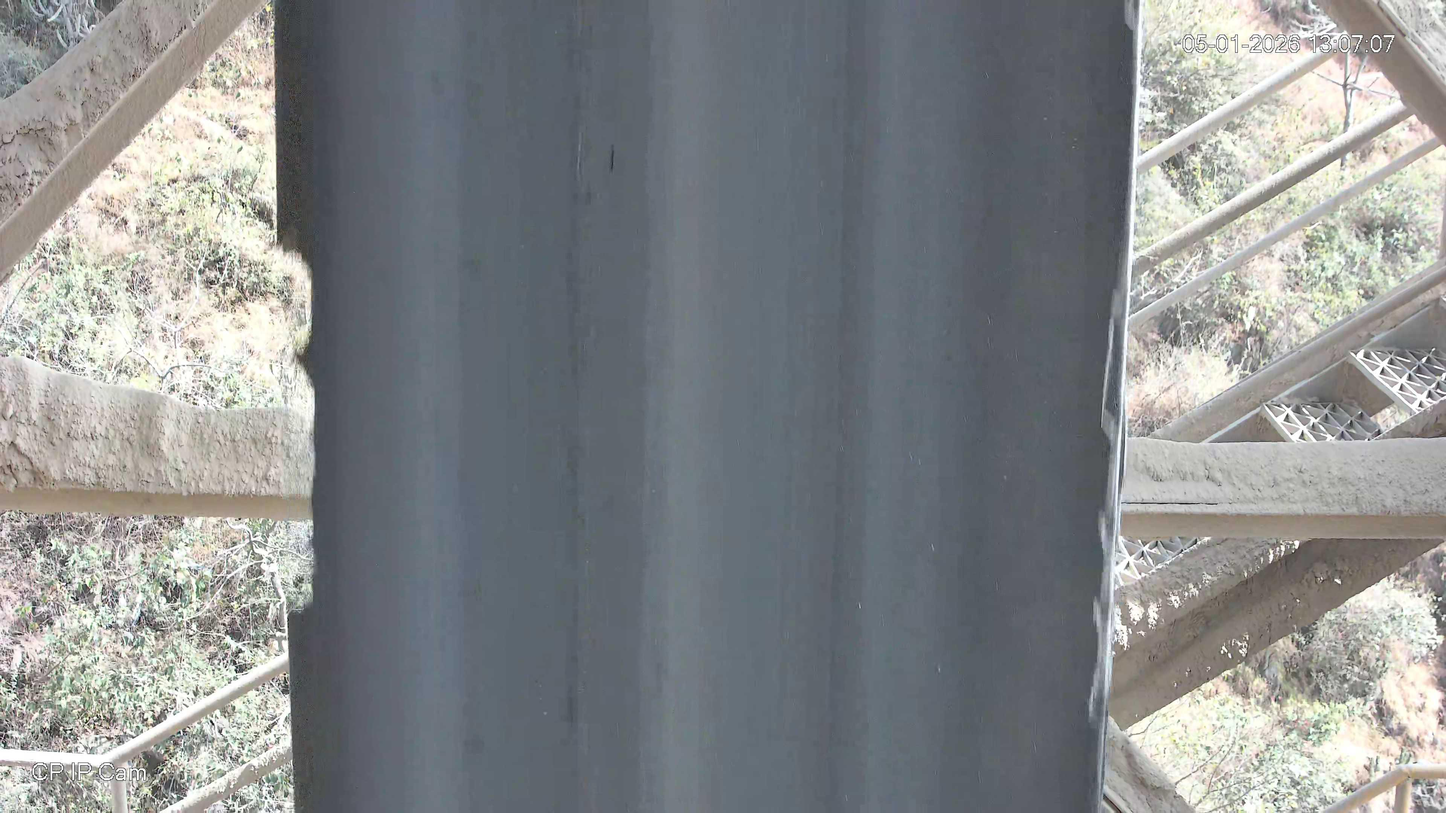belt_roi: (273, 0, 1143, 813)
